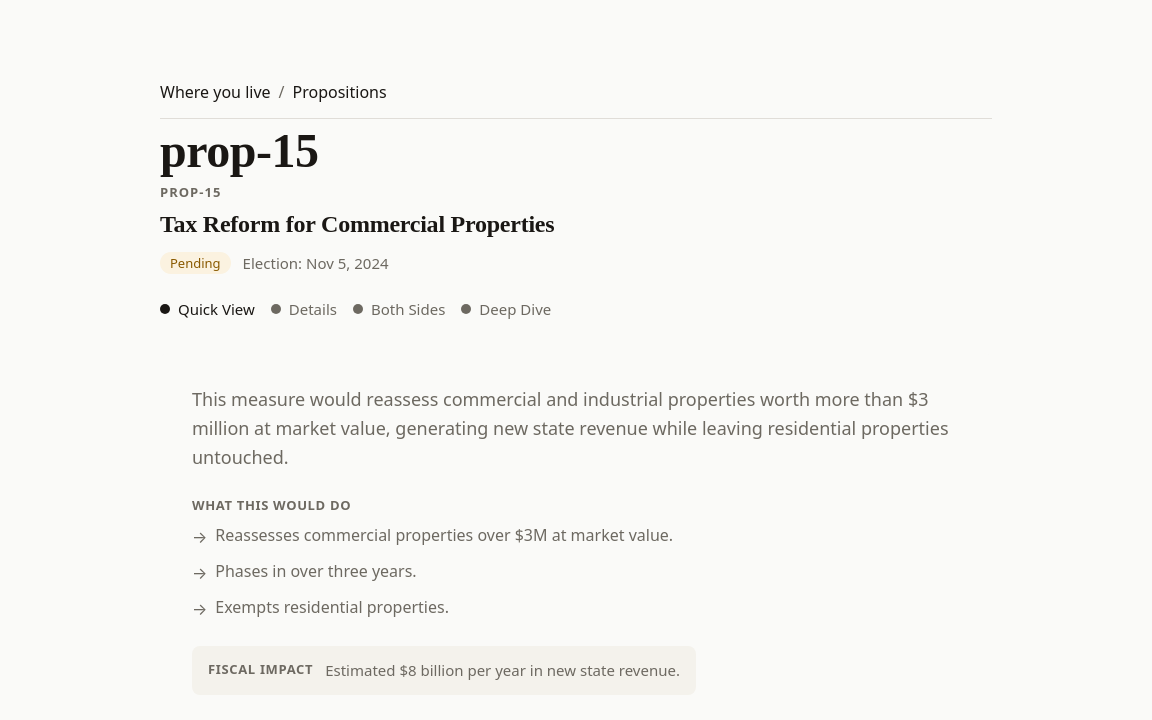
Test: PropositionDetailPage › Layer 4 - Deep Dive › should render the fullText body inside the segmented sections
The image size is (1152, 720).
Click the button "Deep Dive": [506, 309] box [461, 298, 551, 321]
(page scrolled)
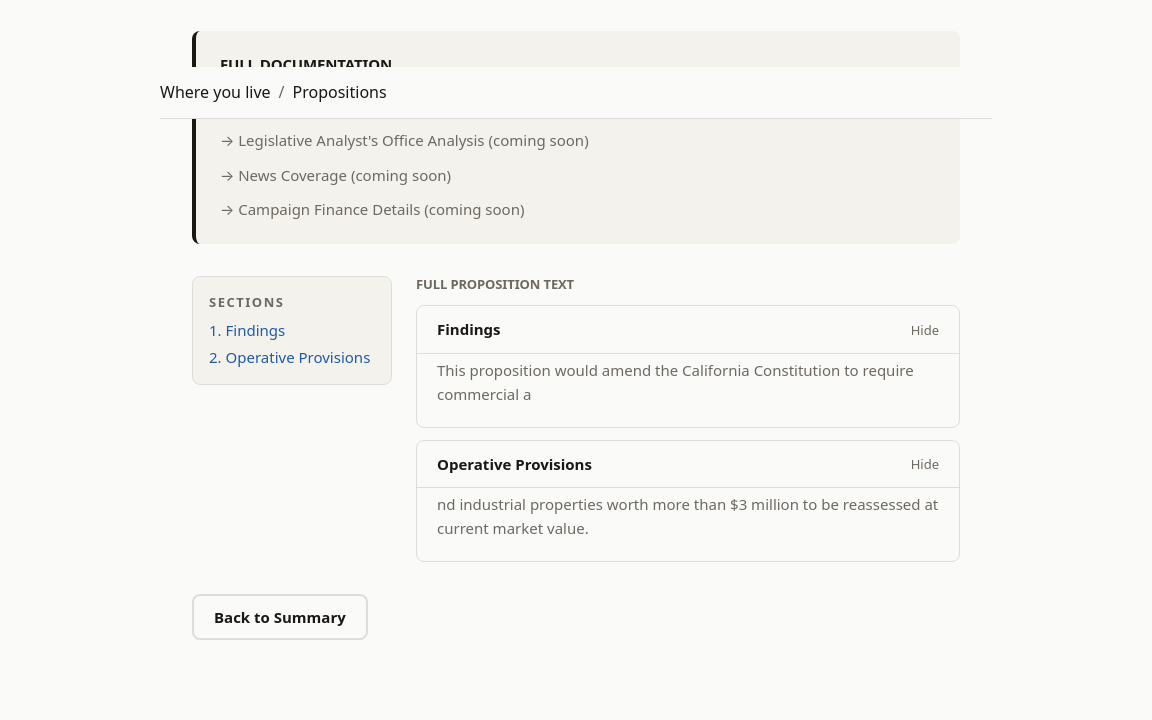
Expected: the text "amend the California Constitution" is shown, [437, 360, 914, 404]
